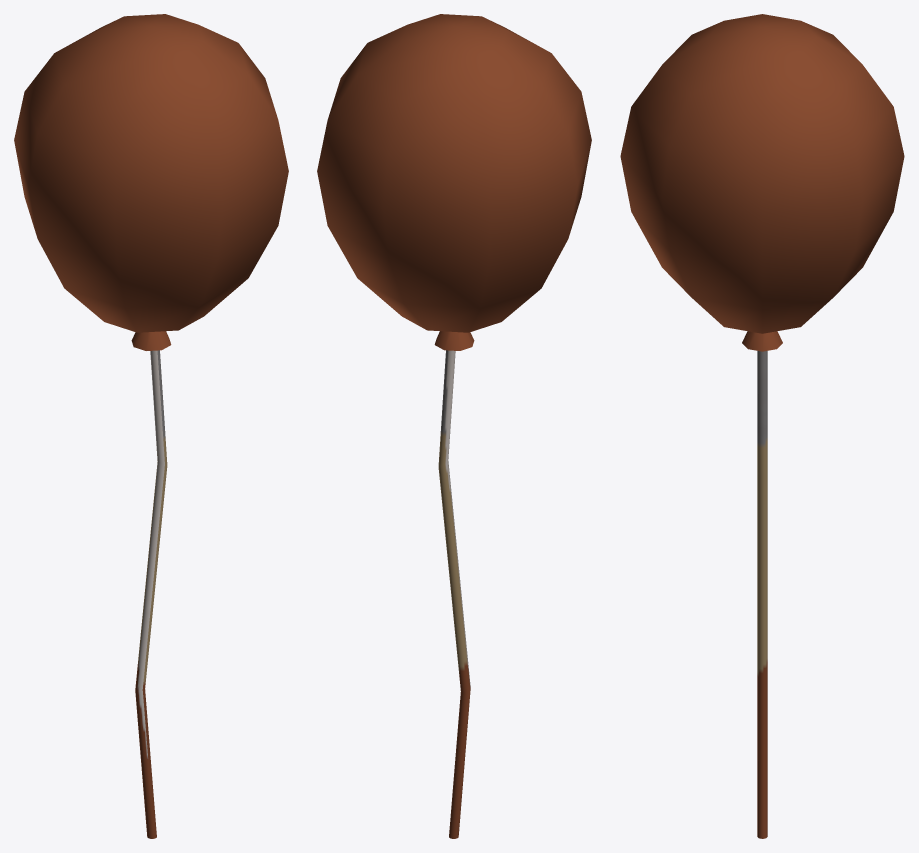
File: Balloon2.fbx
The picture shows the model from 3 angles, left to right: view 1: azimuth 30°, elevation 25°; view 2: azimuth 150°, elevation 25°; view 3: azimuth 270°, elevation 25°; orthographic projection.
Parts seen in each view (by area): view 1: polySurface224; view 2: polySurface224; view 3: polySurface224.
Boxes of the visible parts, left/top/right/bottom form: polySurface224: left=14, top=14, right=288, bottom=838; polySurface224: left=317, top=14, right=591, bottom=838; polySurface224: left=620, top=14, right=904, bottom=838.
Size of the model in its own units: 0.4182 by 1.31 by 0.4182.
